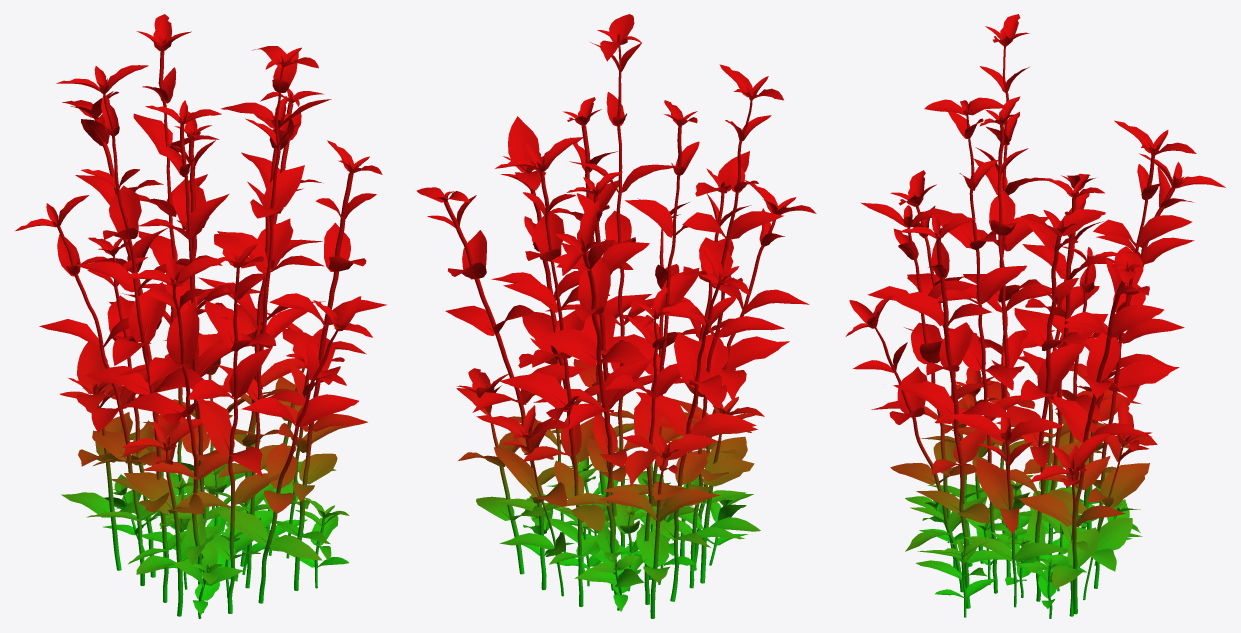
Rendered from Var1_LOD0.fbx.
The picture shows the model from 3 angles, left to right: view 1: azimuth 30°, elevation 25°; view 2: azimuth 150°, elevation 25°; view 3: azimuth 270°, elevation 25°; orthographic projection. The views are drawn at different scales.
Visible parts, largest first — view 1: _hsq8_Var1_LOD0; view 2: _hsq8_Var1_LOD0; view 3: _hsq8_Var1_LOD0.
Boxes of the visible parts, left/top/right/bottom form: _hsq8_Var1_LOD0: left=15, top=14, right=386, bottom=618; _hsq8_Var1_LOD0: left=416, top=14, right=816, bottom=618; _hsq8_Var1_LOD0: left=845, top=14, right=1225, bottom=618.
Size of the model in its own units: 37.53 by 60.08 by 40.74.
